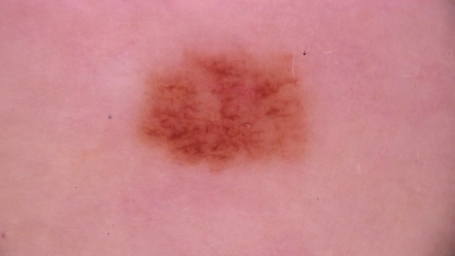nevus: (145, 57, 310, 166)
